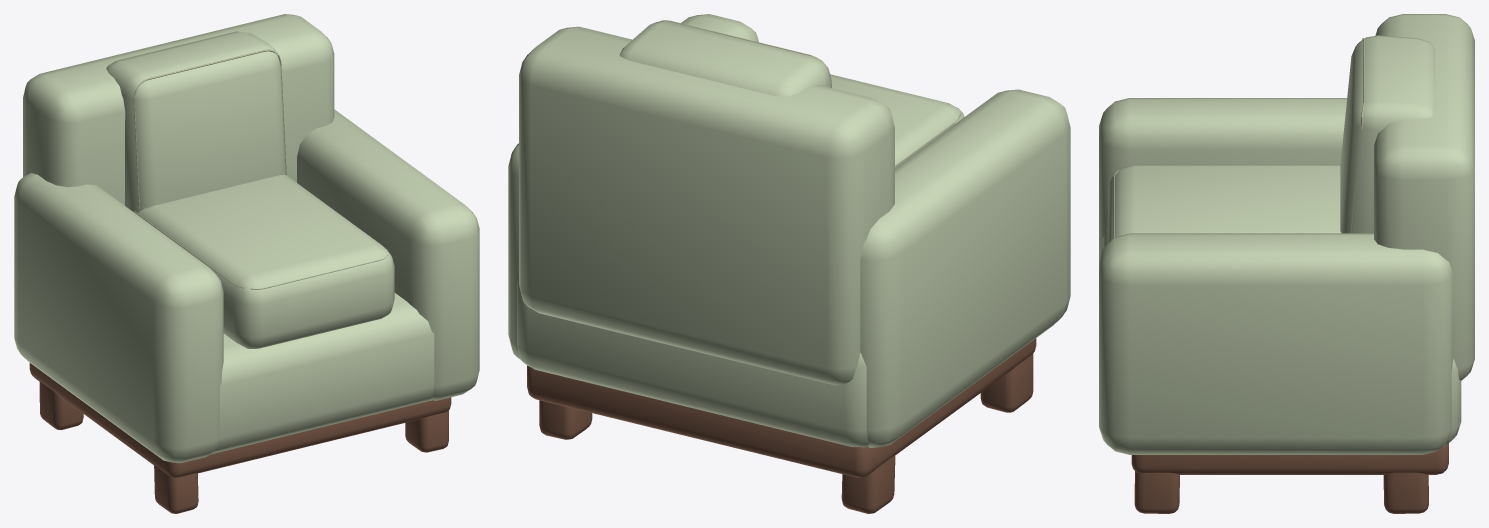
Rendered from armchair.glb.
3 renders of one model, left to right at view 1: azimuth 30°, elevation 25°; view 2: azimuth 150°, elevation 25°; view 3: azimuth 270°, elevation 25°, orthographic. The views are drawn at different scales.
Parts seen in each view (by area): view 1: armchair; view 2: armchair; view 3: armchair.
Part boxes in pixels (x1=…): armchair: x1=14, y1=14, x2=479, y2=513; armchair: x1=508, y1=14, x2=1070, y2=513; armchair: x1=1099, y1=14, x2=1474, y2=513.
Size of the model in its own units: 0.88 by 0.9 by 0.82.
